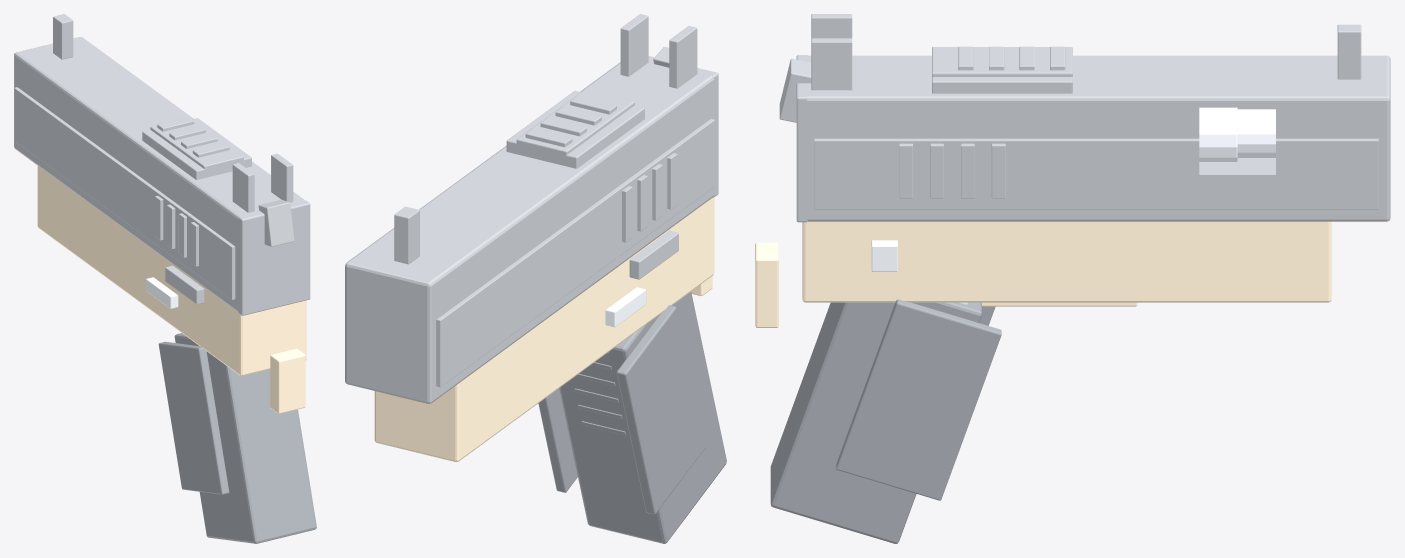
3 views of the same model, side by side, from view 1: azimuth 30°, elevation 25°; view 2: azimuth 150°, elevation 25°; view 3: azimuth 270°, elevation 25° (orthographic). The views are drawn at different scales.
Visible parts, largest first — view 1: Slide, Frame, Grip, GripPanelL, SlideRail, StockIrons, Beavertail, _HammerSpur, SlideStopLever, TakedownLever; view 2: Slide, Frame, Grip, GripPanelL, SlideRail, StockIrons, GripPanelR, SlideStopLever, TakedownLever, FrontStrap; view 3: Slide, Frame, GripPanelR, Grip, SlideRail, StockIrons, ChamberBlock, Beavertail, Barrel, _HammerSpur, MagRelease, TriggerGuardBtm.
Boxes of the visible parts, bbox=[...] form: Slide: bbox=[14, 37, 310, 315]; Frame: bbox=[37, 166, 306, 375]; Grip: bbox=[174, 333, 316, 543]; GripPanelL: bbox=[158, 341, 229, 494]; SlideRail: bbox=[142, 117, 251, 179]; StockIrons: bbox=[53, 14, 293, 212]; Beavertail: bbox=[270, 348, 305, 413]; _HammerSpur: bbox=[258, 199, 294, 246]; SlideStopLever: bbox=[165, 265, 204, 304]; TakedownLever: bbox=[146, 277, 178, 308]; Slide: bbox=[345, 56, 718, 403]; Frame: bbox=[374, 197, 714, 462]; Grip: bbox=[559, 292, 726, 543]; GripPanelL: bbox=[616, 305, 705, 514]; SlideRail: bbox=[506, 89, 644, 168]; StockIrons: bbox=[394, 14, 697, 264]; GripPanelR: bbox=[538, 388, 577, 492]; SlideStopLever: bbox=[629, 230, 678, 279]; TakedownLever: bbox=[605, 287, 646, 327]; FrontStrap: bbox=[574, 352, 625, 435]; Slide: bbox=[796, 55, 1390, 222]; Frame: bbox=[802, 221, 1331, 302]; GripPanelR: bbox=[836, 299, 1001, 500]; Grip: bbox=[770, 302, 981, 543]; SlideRail: bbox=[932, 46, 1072, 93]; StockIrons: bbox=[811, 14, 1361, 90]; ChamberBlock: bbox=[1199, 107, 1237, 161]; Beavertail: bbox=[755, 242, 778, 327]; Barrel: bbox=[1237, 109, 1275, 158]; _HammerSpur: bbox=[779, 58, 811, 122]; MagRelease: bbox=[871, 240, 897, 271]; TriggerGuardBtm: bbox=[982, 302, 1137, 306].
Size of the model in its own units: 0.0425 by 0.1866 by 0.216.
